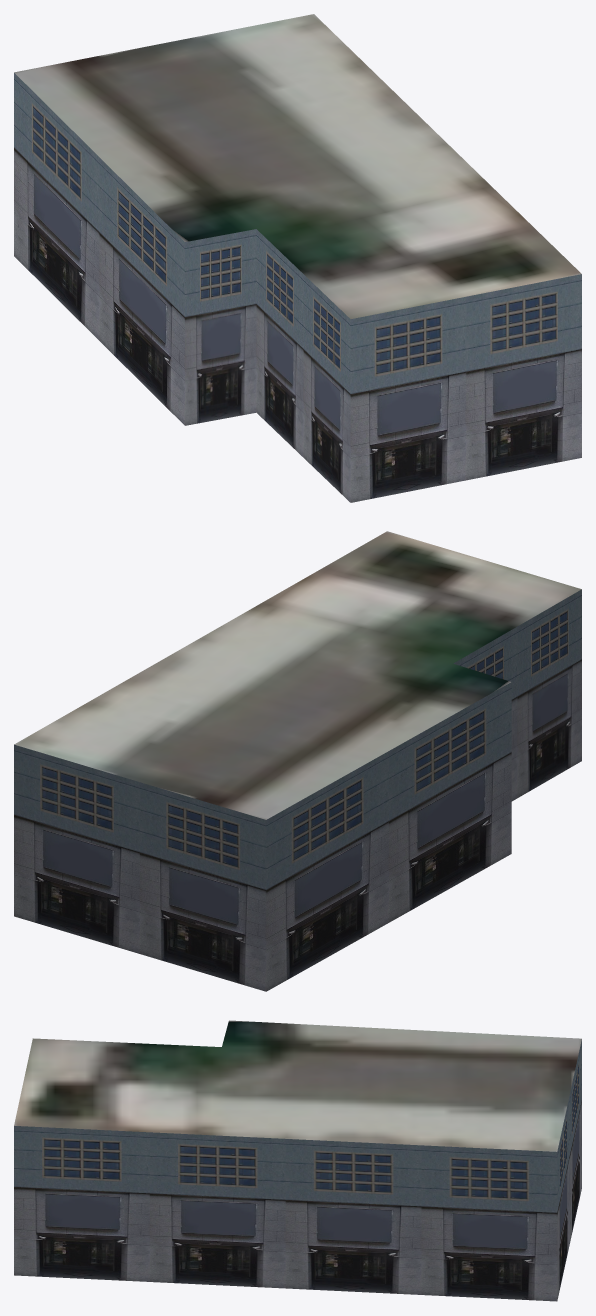
Rendered from T_1T38H4NXAR.dae.
3 renders of one model, top to bottom at view 1: azimuth 30°, elevation 25°; view 2: azimuth 150°, elevation 25°; view 3: azimuth 270°, elevation 25°, orthographic. The views are drawn at different scales.
Visible parts, largest first — view 1: SketchUp (×9); view 2: SketchUp (×7); view 3: SketchUp (×5).
Part boxes in pixels (bbox=[...]): SketchUp (×9): bbox=[14, 14, 581, 502]; SketchUp (×7): bbox=[14, 531, 581, 991]; SketchUp (×5): bbox=[14, 1020, 581, 1301].
Bounding box in the file's own units: 10.49 × 19.16 × 5.57.
3 materials, 3 textured.
